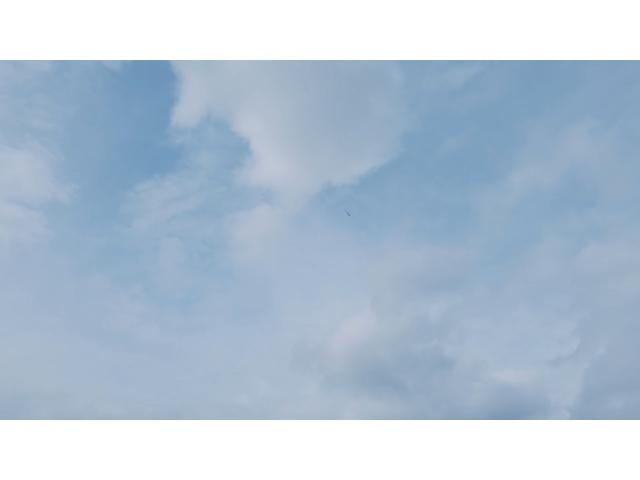Anti-Drone: (340, 206, 352, 221)
